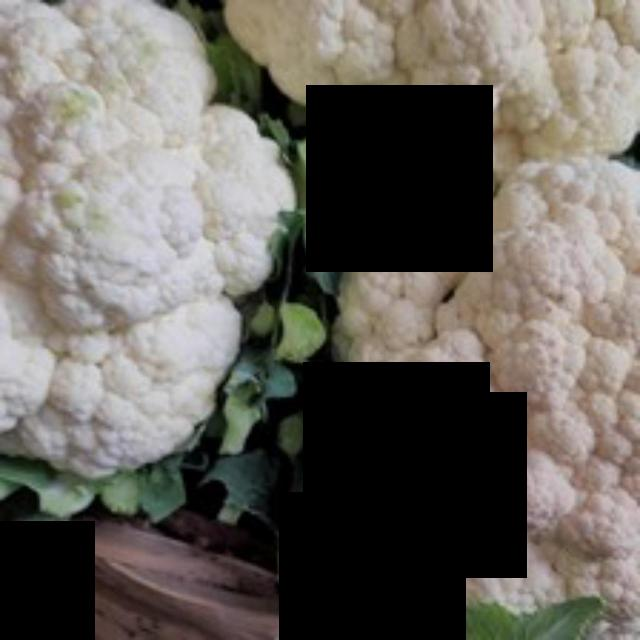cauliflower: (294, 146, 637, 636)
